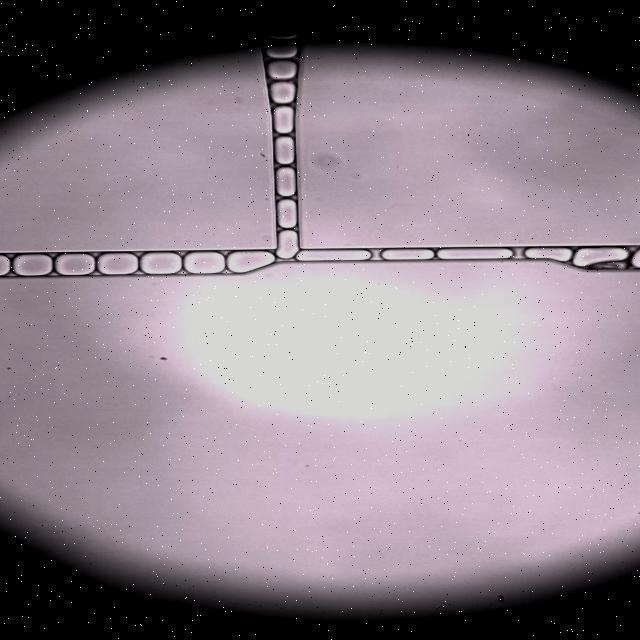L: (525, 248, 572, 262), (277, 230, 299, 258), (266, 60, 296, 80), (277, 199, 297, 228), (269, 82, 295, 104), (382, 249, 434, 260), (276, 167, 295, 197), (265, 42, 298, 59), (273, 107, 293, 134), (276, 136, 294, 165), (265, 31, 298, 40)
S: (572, 248, 627, 267), (227, 251, 274, 273), (55, 253, 95, 275), (97, 253, 137, 275), (141, 252, 181, 274), (12, 254, 52, 275), (185, 252, 224, 273), (296, 250, 370, 261), (438, 248, 512, 259), (0, 255, 9, 276)
